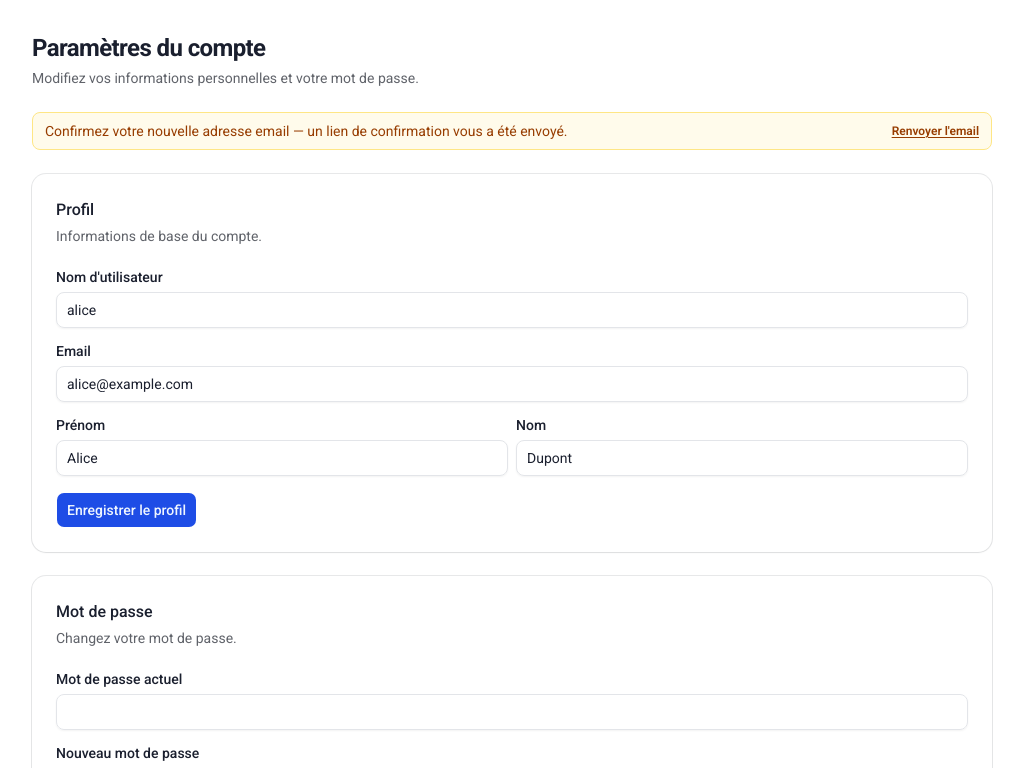
Test case: SettingsPage — email verification banner › resends the verification email and confirms it was sent
Click the button "Renvoyer l'email" at x=935, y=131, box [892,123,979,139]
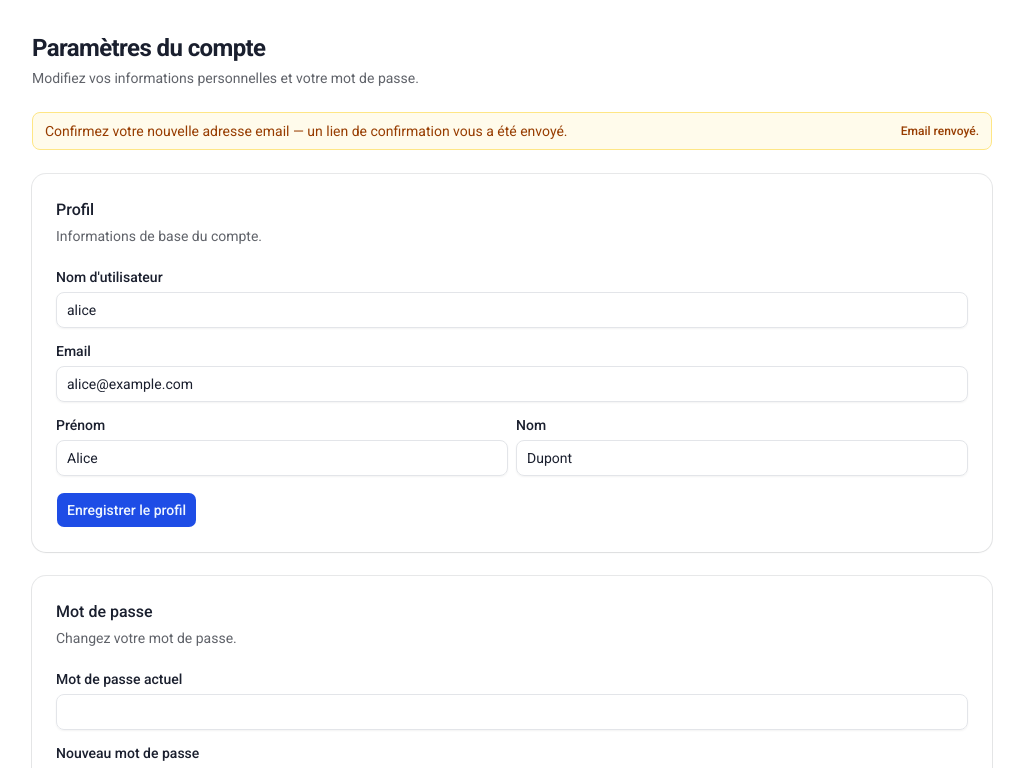
Expected: the text "Email renvoyé." is shown, [901,123,979,139]
